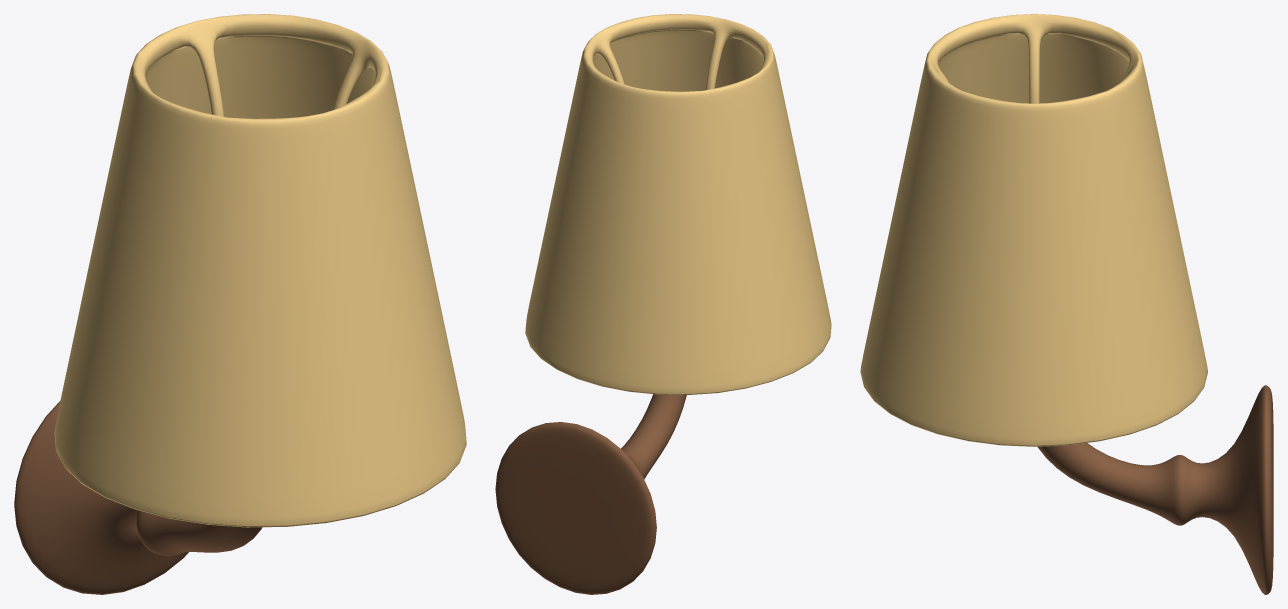
Rendered from 089_small_lamp.glb.
3 views of the same model, side by side, from view 1: azimuth 30°, elevation 25°; view 2: azimuth 150°, elevation 25°; view 3: azimuth 270°, elevation 25° (orthographic). The views are drawn at different scales.
Parts seen in each view (by area): view 1: head, foot; view 2: head, foot; view 3: head, foot.
Boxes of the visible parts, x1,y1,x2,y2 form: head: (54, 14, 466, 527); foot: (14, 401, 262, 594); head: (525, 14, 831, 394); foot: (495, 394, 686, 594); head: (860, 14, 1207, 446); foot: (1037, 385, 1273, 594).
Size of the model in its own units: 0.474 by 0.7917 by 0.5634.
